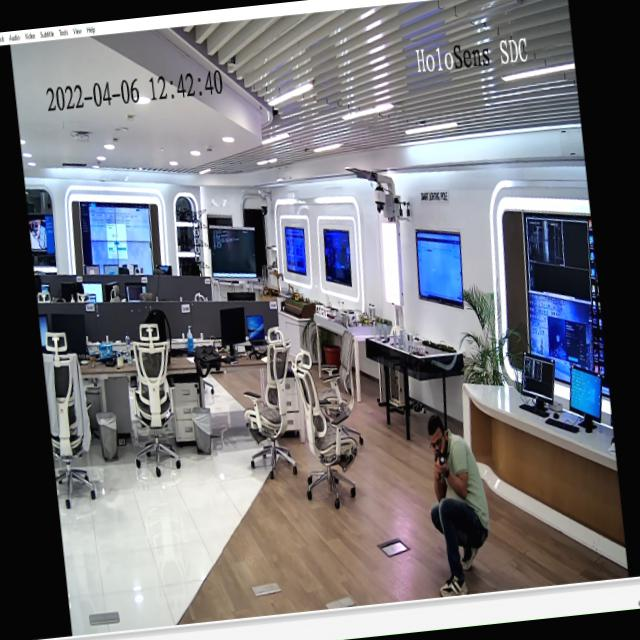long weapon: (426, 439, 454, 486)
